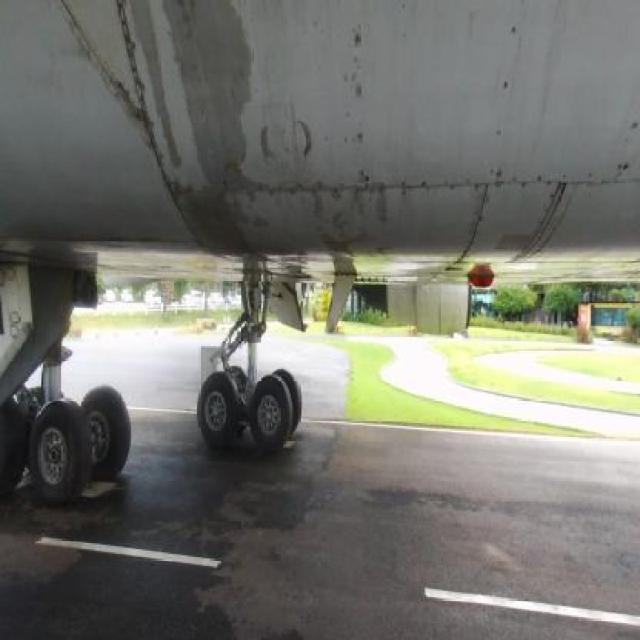Missing-Rivet: (198, 177, 478, 206), (481, 172, 632, 210), (345, 2, 377, 181), (487, 12, 518, 180)
Scartch: (114, 0, 285, 278), (295, 187, 400, 256), (251, 99, 324, 172), (356, 27, 370, 173)
